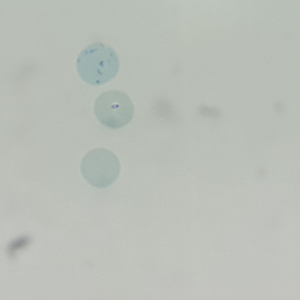aggregate reticulocyte: (75, 43, 121, 87)
erythrocyte: (78, 146, 122, 190), (92, 89, 135, 129)
